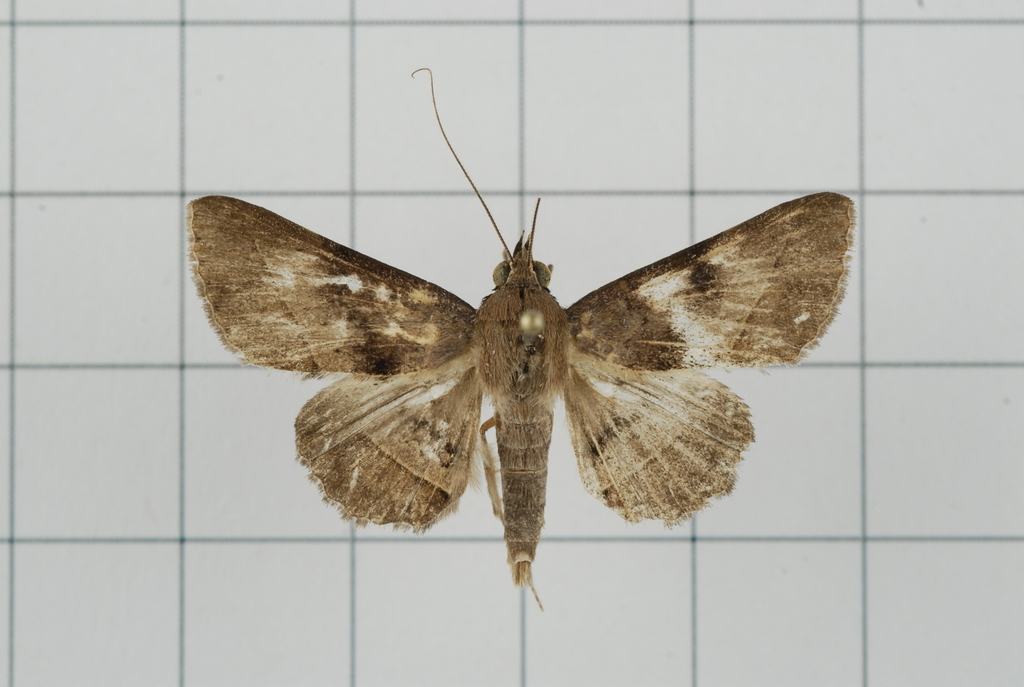Butterfly: (182, 185, 868, 553)
